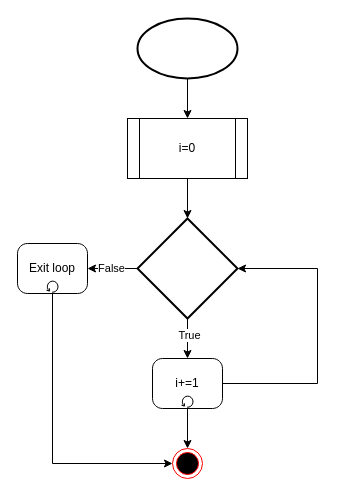
This 343x496 diagram has some shape labels left out. Each missing label, with the centre of its shape:
"i<0" belongs at point (187, 268).
"Start" belongs at point (187, 48).
